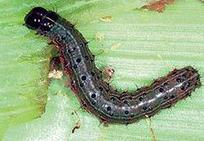caterpillars: (17, 0, 204, 132)
